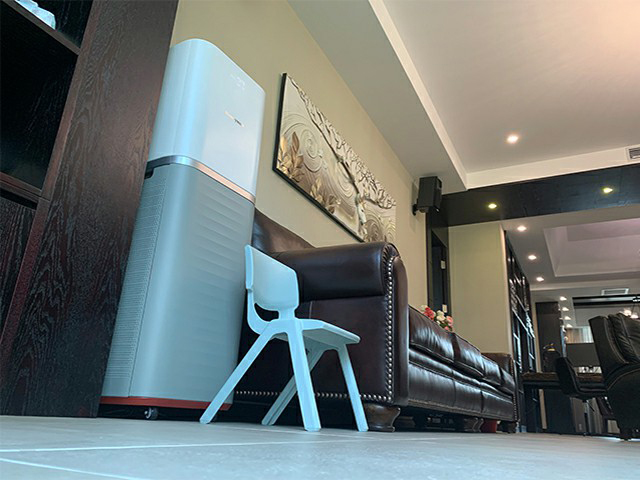sofa: (236, 209, 520, 435), (587, 312, 640, 444)
stool: (196, 244, 370, 434), (552, 355, 606, 438)
table: (520, 369, 604, 433)
